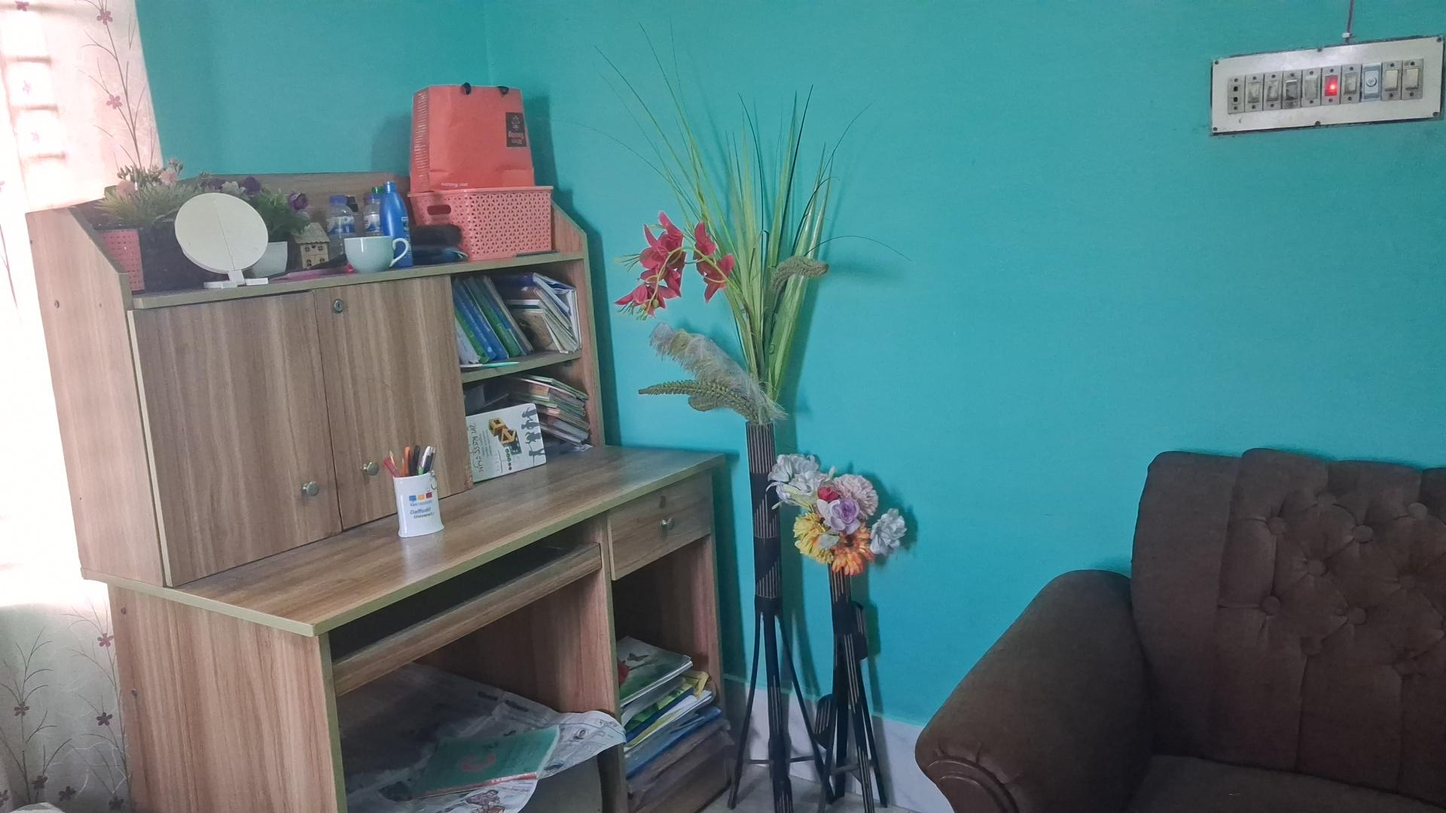Basket: (418, 189, 559, 266)
Bottle: (380, 175, 413, 265)
Cup: (344, 232, 409, 273)
Drawer: (610, 473, 710, 569)
Pen Stand: (385, 440, 445, 540)
Table: (48, 179, 717, 808)
